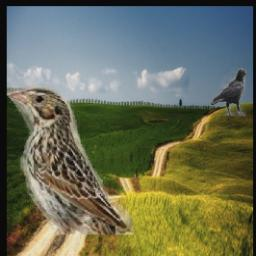Crow: (210, 69, 246, 117)
Sparrow: (8, 86, 134, 235)
